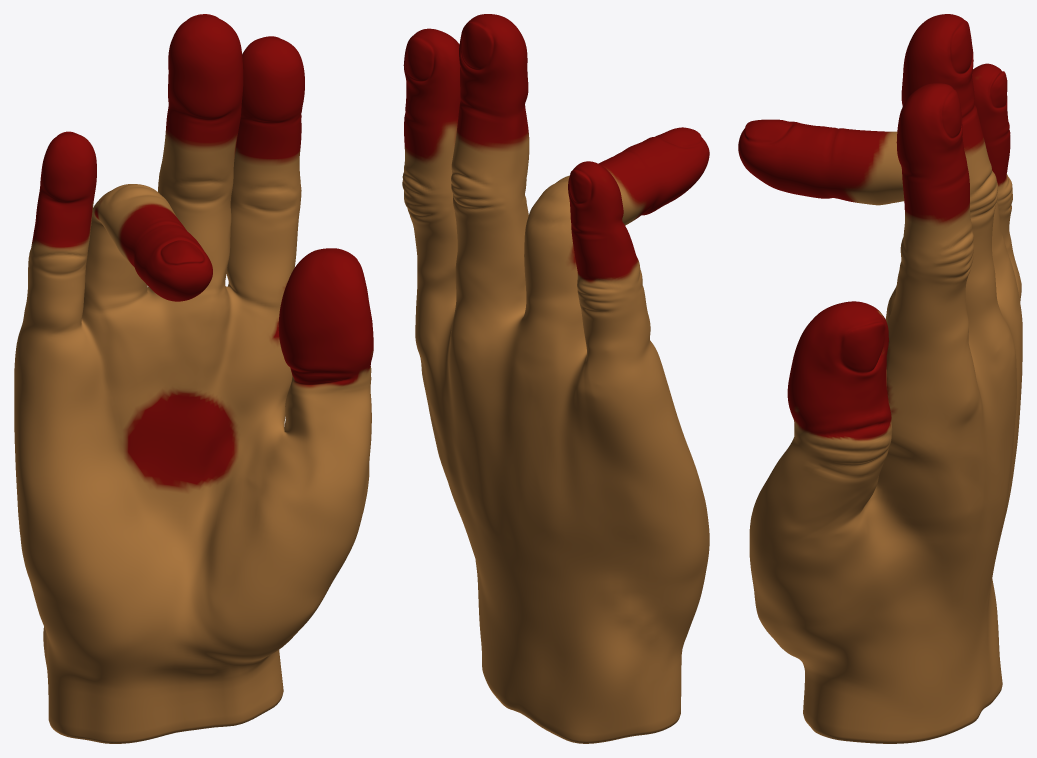
The model's file is tripataka_color.glb.
The picture shows the model from 3 angles, left to right: view 1: azimuth 30°, elevation 25°; view 2: azimuth 150°, elevation 25°; view 3: azimuth 270°, elevation 25°; orthographic projection. The views are drawn at different scales.
Visible parts, largest first — view 1: 16834_hand_v1_NEW; view 2: 16834_hand_v1_NEW; view 3: 16834_hand_v1_NEW.
Boxes of the visible parts, x1,y1,x2,y2 form: 16834_hand_v1_NEW: (14, 14, 373, 743); 16834_hand_v1_NEW: (402, 14, 709, 743); 16834_hand_v1_NEW: (738, 14, 1022, 743).
Size of the model in its own units: 9.68 by 20.32 by 7.2.
